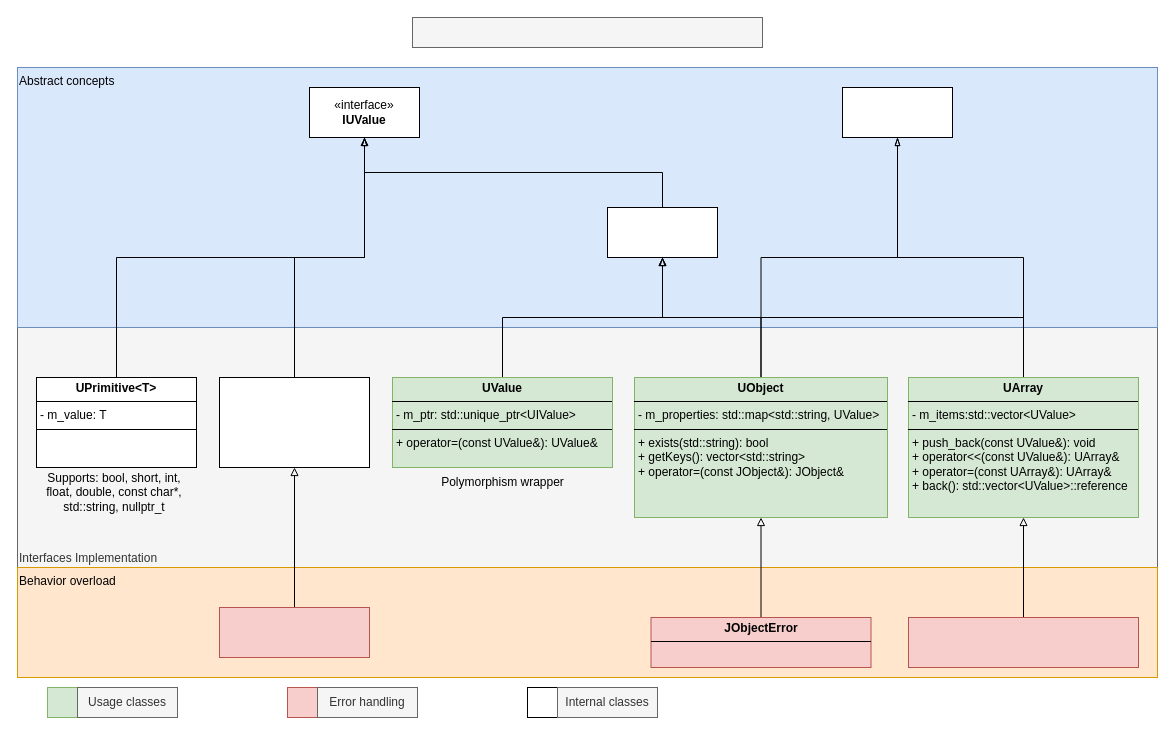
Some shapes in this 1175 by 735 pixel diagram are drawn without their labels. The shapes that lost their labels are listed below. From the top down, each one's centre as x and y in pixels, then its label:
At (587,32): "General architecture".
At (897,112): "«interface» IUContainer".
At (662,232): "UItem".
At (294,422): "UUndefined".
At (294,632): "JUndefinedError".
At (1023,642): "JArrayError".
